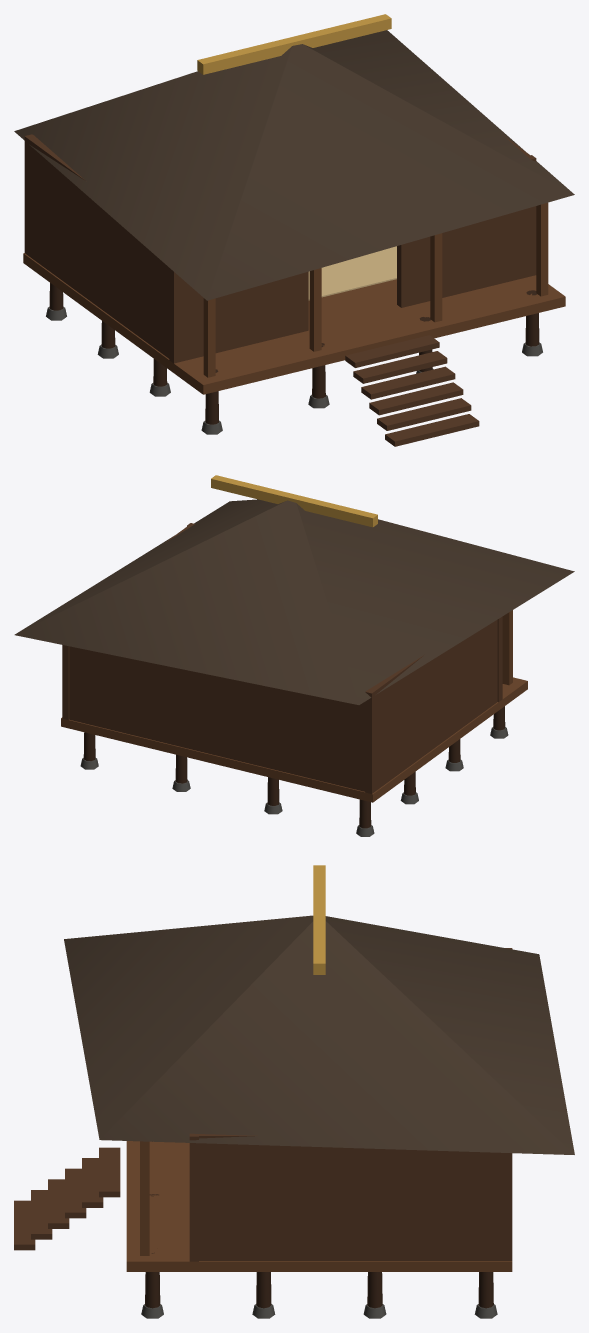
The model's file is julang-ngapak.glb.
3 renders of one model, top to bottom at view 1: azimuth 30°, elevation 25°; view 2: azimuth 150°, elevation 25°; view 3: azimuth 270°, elevation 25°, orthographic. The views are drawn at different scales.
Parts seen in each view (by area): view 1: ROOF_SYSTEM, WALL_SYSTEM, FLOOR_SYSTEM, ENTRANCE_STAIRS, STRUCTURAL_COLUMNS, INTERIOR_MAT, FOUNDATION_SYSTEM; view 2: ROOF_SYSTEM, WALL_SYSTEM, FLOOR_SYSTEM, STRUCTURAL_COLUMNS, FOUNDATION_SYSTEM; view 3: ROOF_SYSTEM, WALL_SYSTEM, FLOOR_SYSTEM, ENTRANCE_STAIRS, STRUCTURAL_COLUMNS, FOUNDATION_SYSTEM.
Part boxes in pixels (x1,y1,x2,y2): ROOF_SYSTEM: (14, 14, 574, 300); WALL_SYSTEM: (24, 134, 536, 363); FLOOR_SYSTEM: (23, 253, 565, 394); ENTRANCE_STAIRS: (345, 335, 479, 446); STRUCTURAL_COLUMNS: (49, 202, 548, 424); INTERIOR_MAT: (308, 246, 396, 300); FOUNDATION_SYSTEM: (46, 306, 542, 434); ROOF_SYSTEM: (14, 475, 574, 704); WALL_SYSTEM: (62, 523, 502, 793); FLOOR_SYSTEM: (61, 677, 527, 802); STRUCTURAL_COLUMNS: (83, 610, 512, 828); FOUNDATION_SYSTEM: (80, 727, 508, 836); ROOF_SYSTEM: (64, 865, 574, 1154); WALL_SYSTEM: (189, 948, 512, 1261); FLOOR_SYSTEM: (126, 1141, 512, 1271); ENTRANCE_STAIRS: (14, 1147, 120, 1250); STRUCTURAL_COLUMNS: (140, 1141, 493, 1308); FOUNDATION_SYSTEM: (141, 1304, 497, 1318).
Size of what is drawn, in the model's own units: 9.81 by 6.7 by 10.76.
